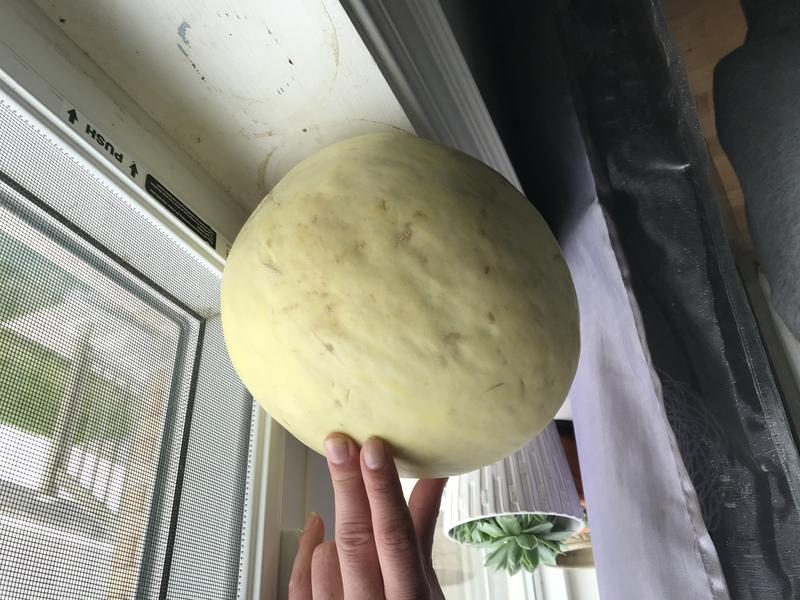honeydew: (214, 119, 588, 493)
